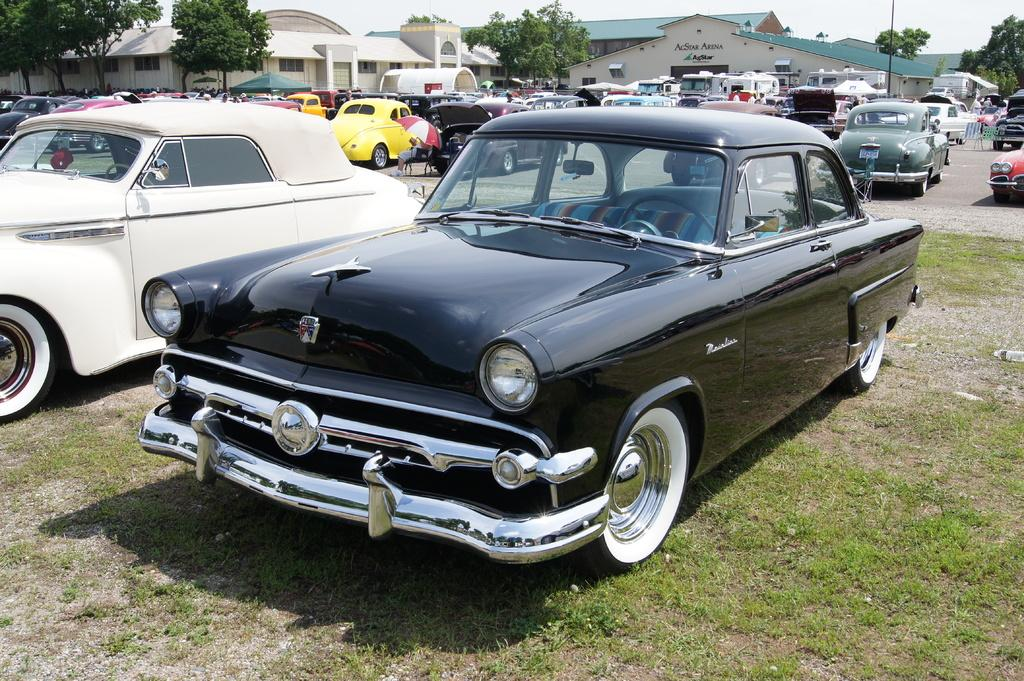Car: (137, 109, 929, 575), (0, 99, 425, 426), (812, 104, 946, 200), (422, 102, 563, 180), (330, 99, 429, 163), (989, 141, 1023, 211), (995, 93, 1023, 144)
